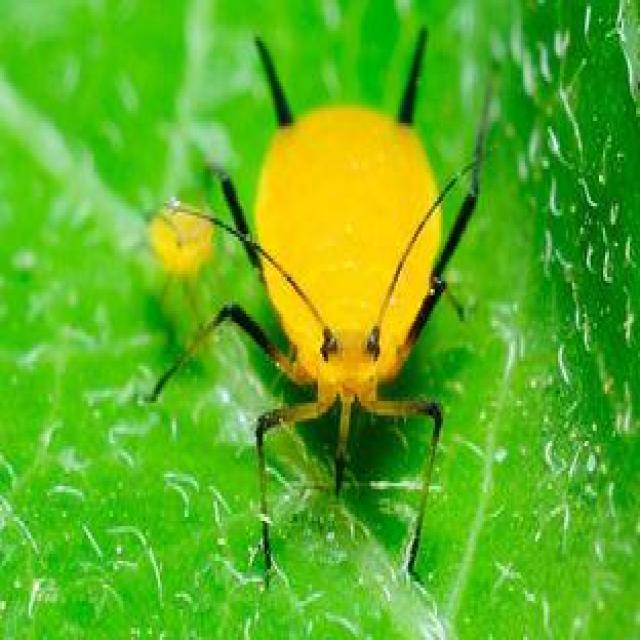Aphids: (134, 32, 549, 610)
